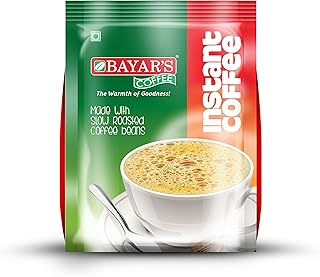Coffee: (59, 1, 269, 263)
